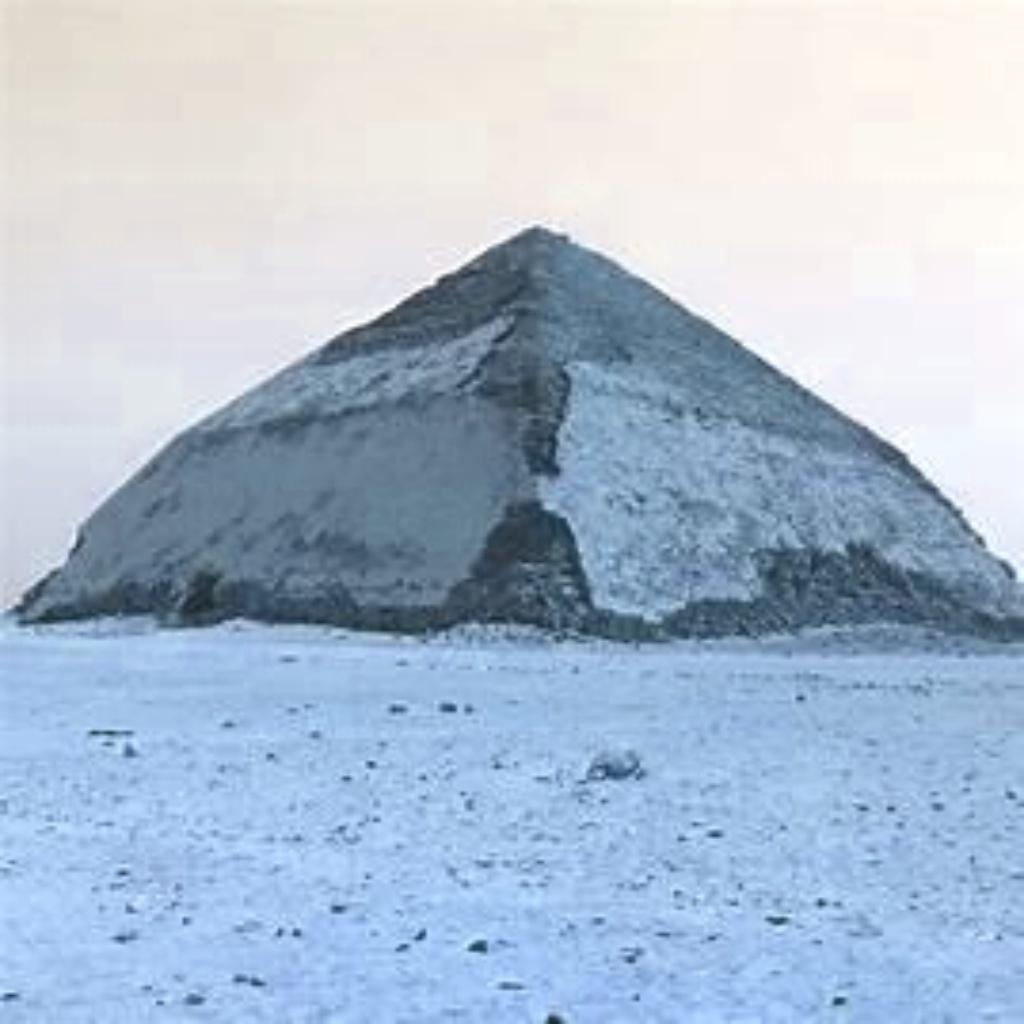Bent Pyramid of King Sneferu: (4, 214, 1020, 644)
